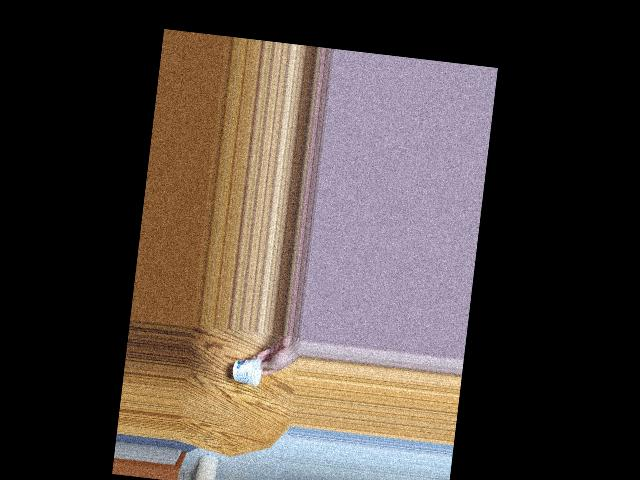cotage: (231, 360, 262, 392)
